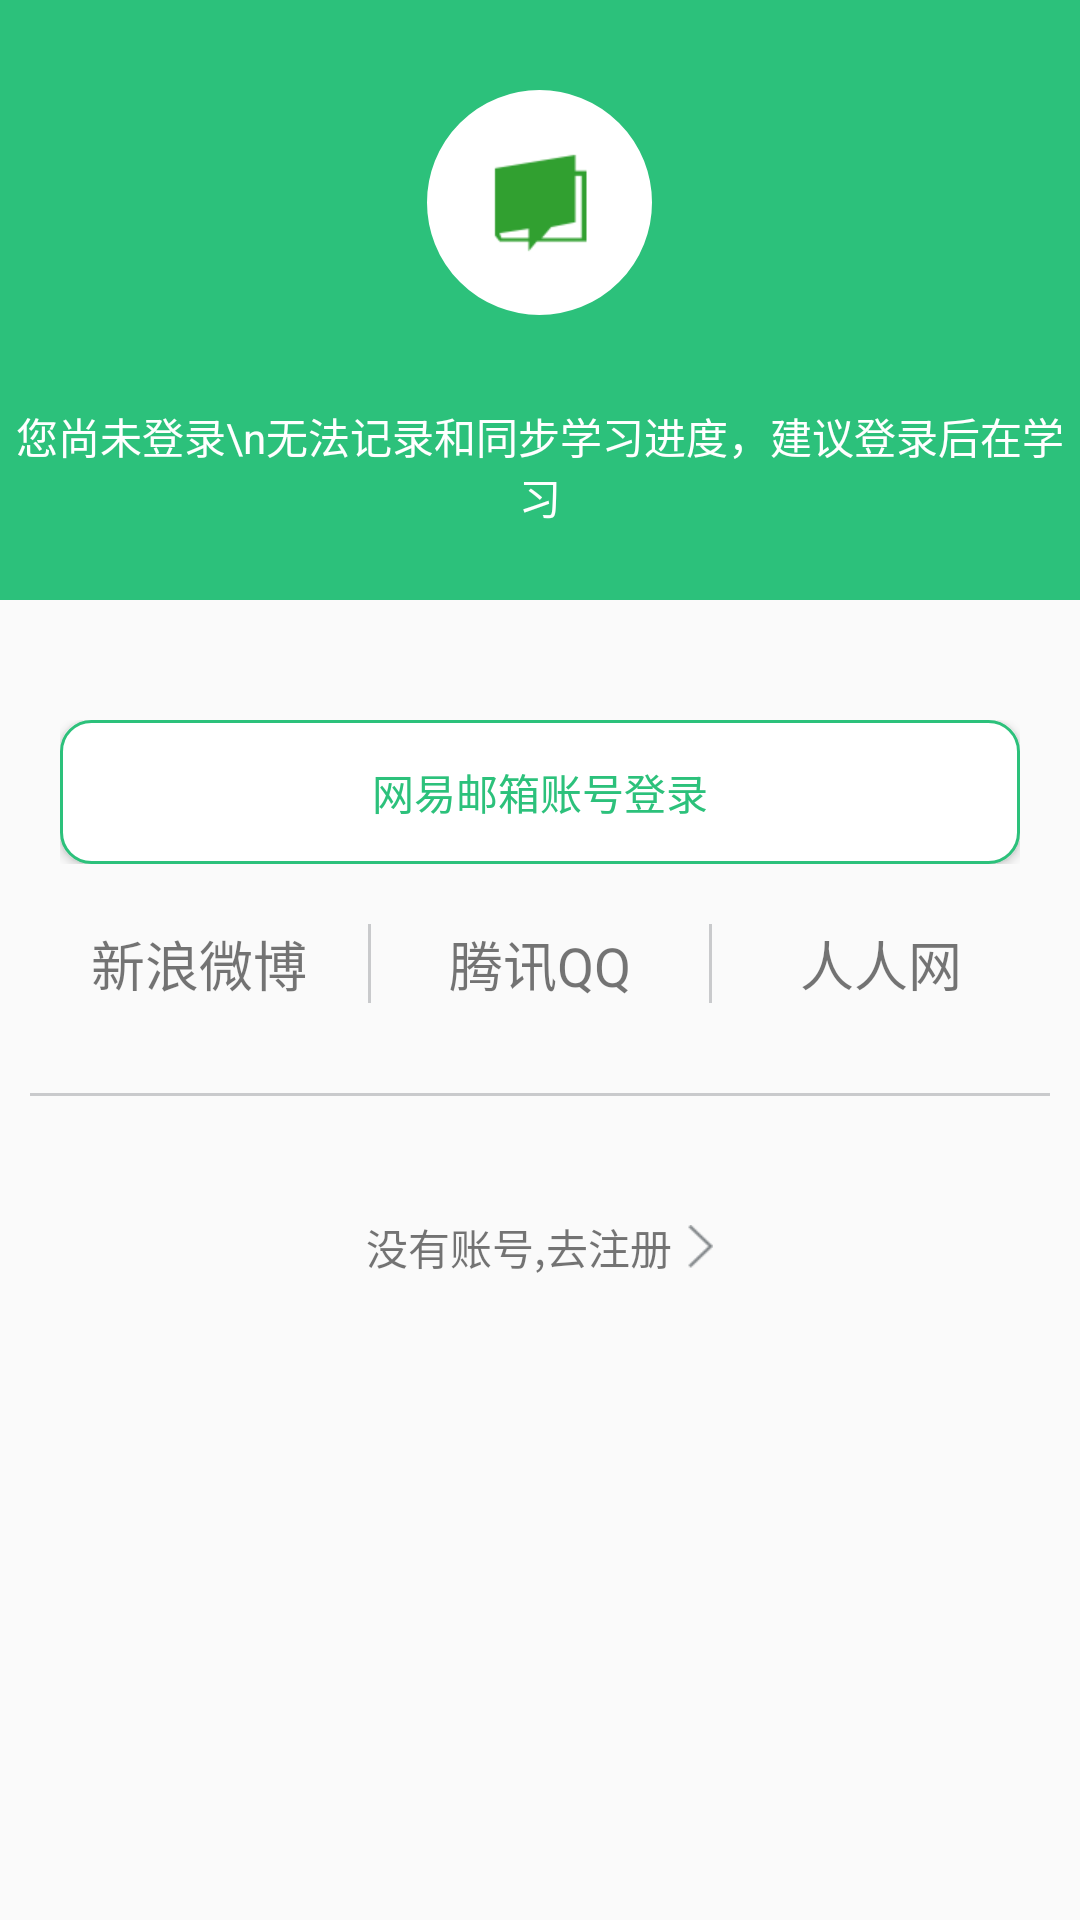

Where icons sit on this 1080×1920 app screen, as {"left": x1, "top": y1, "right": x2, "bottom": y2}:
arrow: {"left": 688, "top": 1225, "right": 713, "bottom": 1268}
